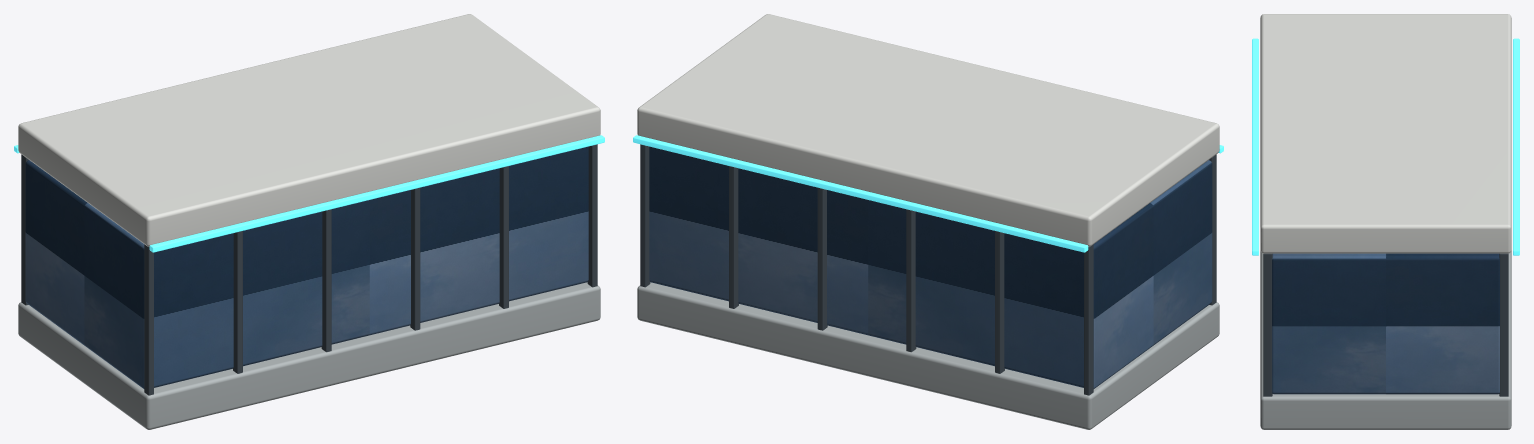
The model's file is bridge.glb.
The picture shows the model from 3 angles, left to right: view 1: azimuth 30°, elevation 25°; view 2: azimuth 150°, elevation 25°; view 3: azimuth 270°, elevation 25°; orthographic projection. The views are drawn at different scales.
Parts seen in each view (by area): view 1: bridge; view 2: bridge; view 3: bridge.
Part boxes in pixels (x1,y1,x2,y2): bridge: [14, 14, 604, 429]; bridge: [633, 14, 1223, 429]; bridge: [1252, 14, 1519, 429].
Size of the model in its own units: 2.05 by 0.92 by 1.09.
5 materials, 1 textured.
